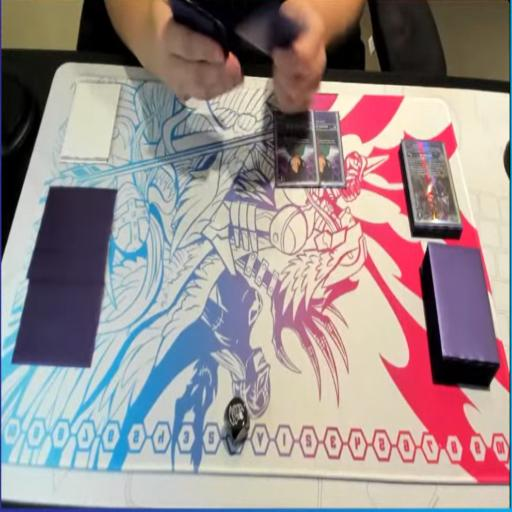card: (399, 139, 462, 237), (274, 112, 319, 186), (314, 111, 345, 187)
